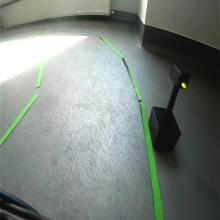green: (169, 62, 190, 91)
